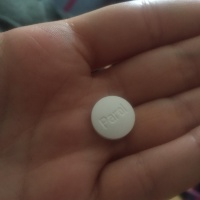Parol: (90, 94, 137, 141)
